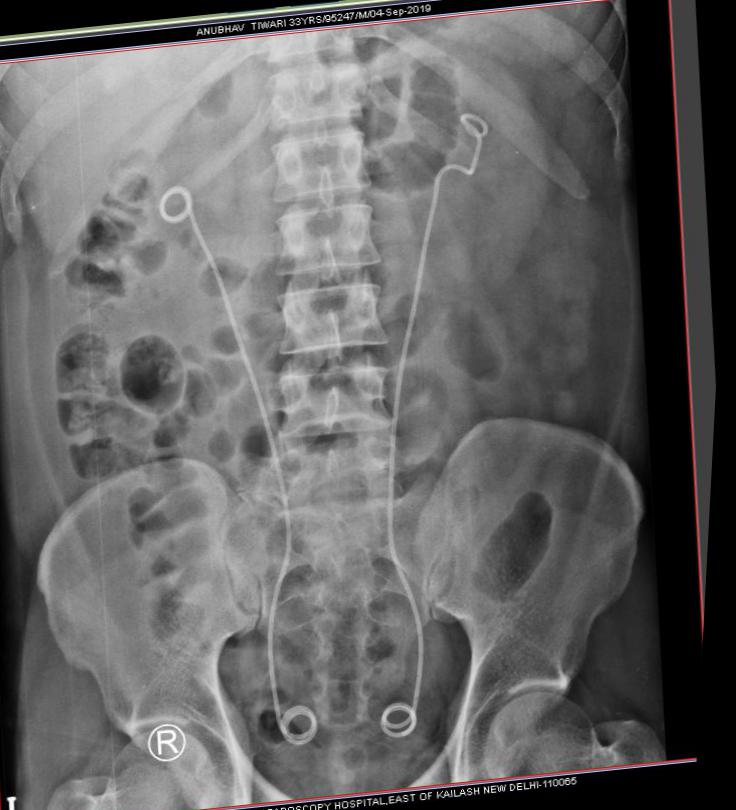vertebrae: (264, 127, 378, 202)
